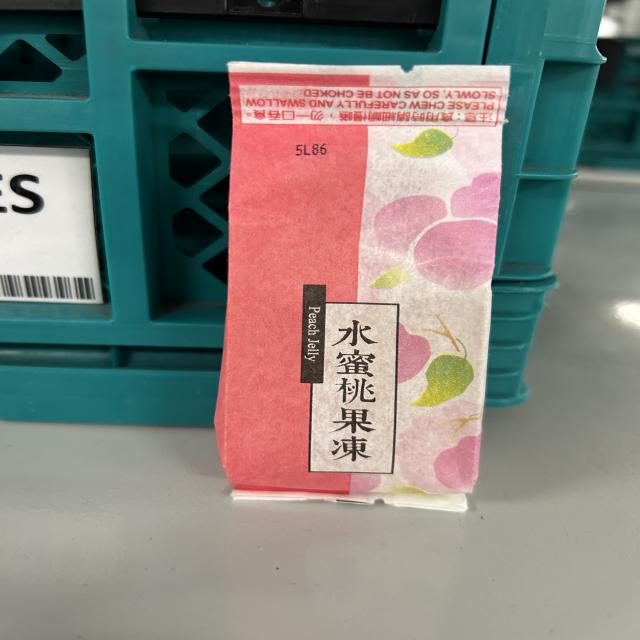object_name: (224, 59, 487, 505)
